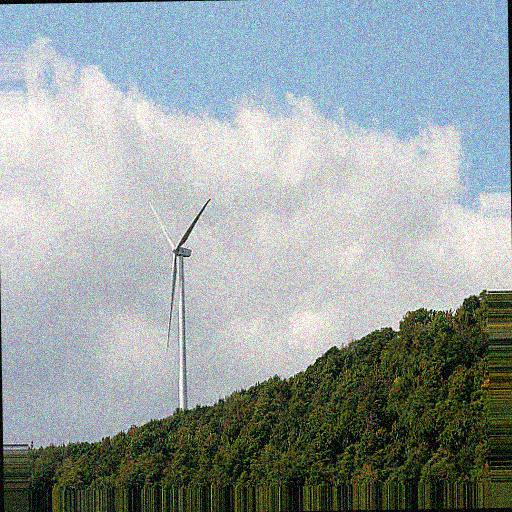wind turbine: (150, 196, 215, 408)
